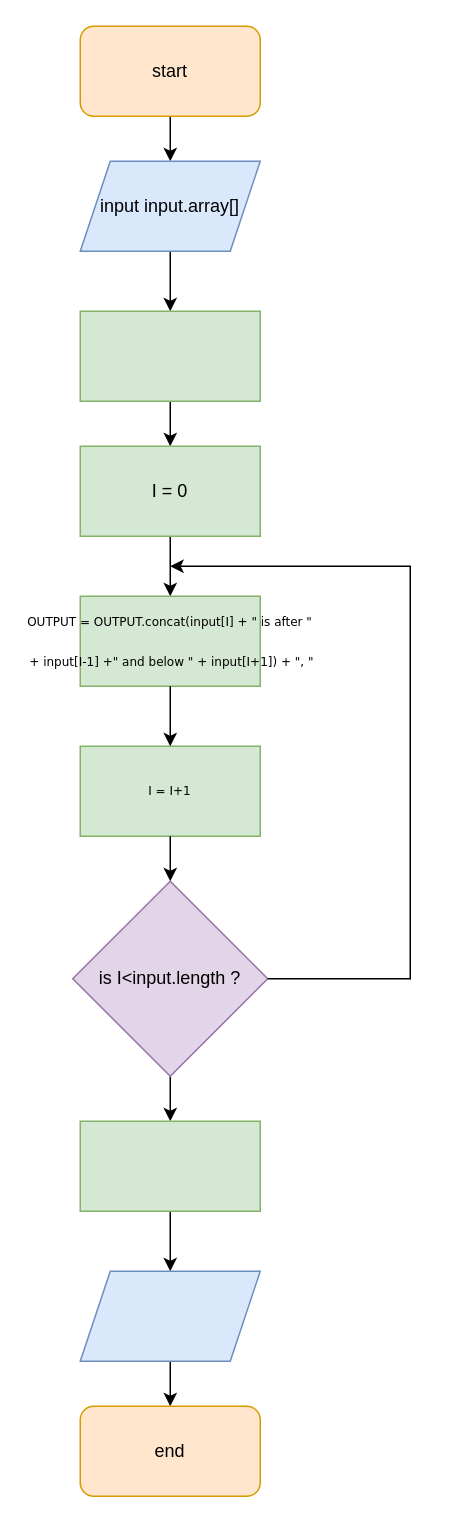
This 449x1523 diagram has some shape labels left out. The centre of each missing label's shape, as x and y in pixels:
OUTPUT = input[0]+ " is first, ": [169,355]
OUTPUT = OUTPUT.concat( input[input.length-1] + " is last") + ", ": [169,1165]
output OUTPUT: [169,1315]
